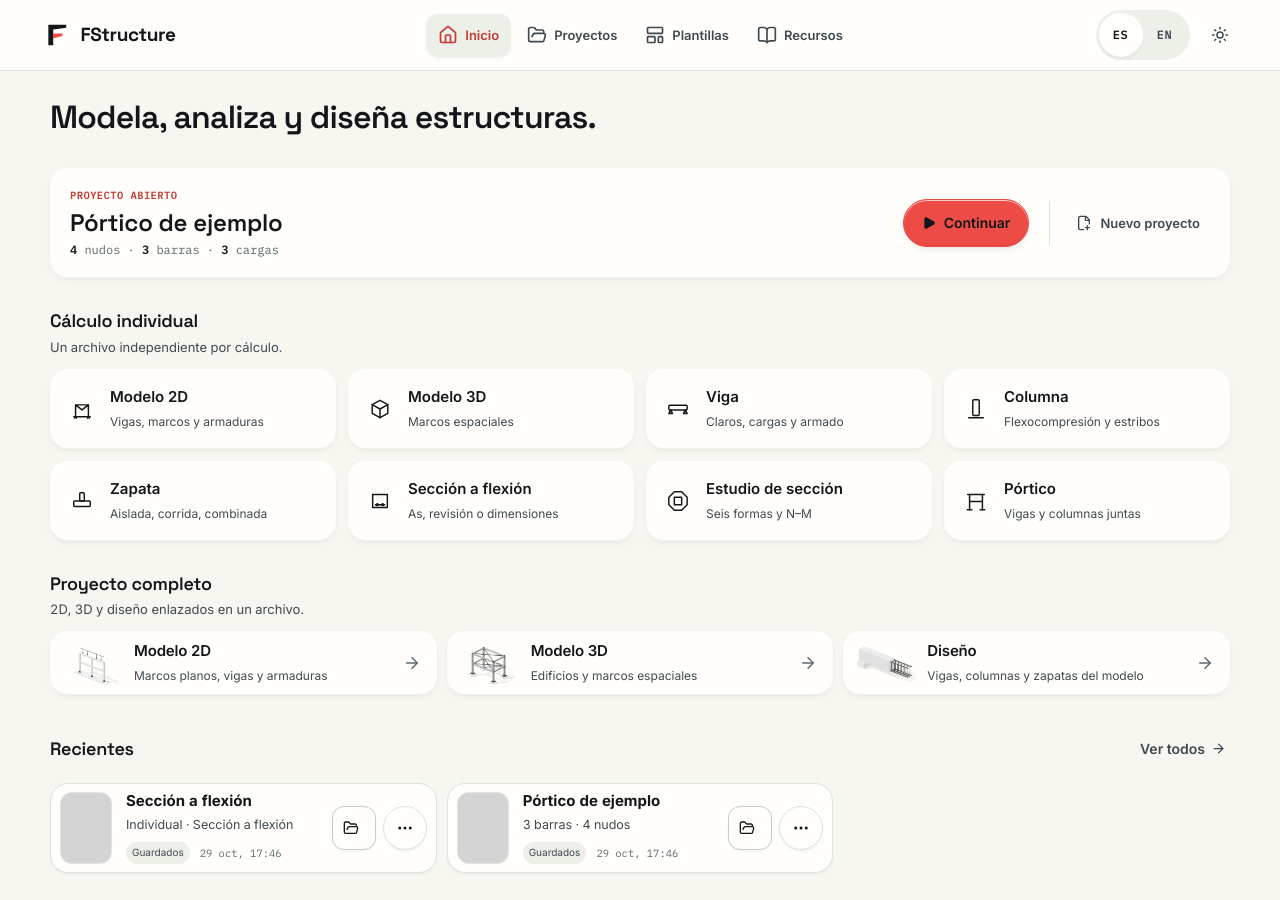
Scenario: HomePage: por separado o proyecto completo › cada pantalla individual crea su propio archivo y abre sólo su modo
The image size is (1280, 900).
Click the button "Modelo 3D Marcos espaciales" at (447, 397), box [348, 369, 634, 449]
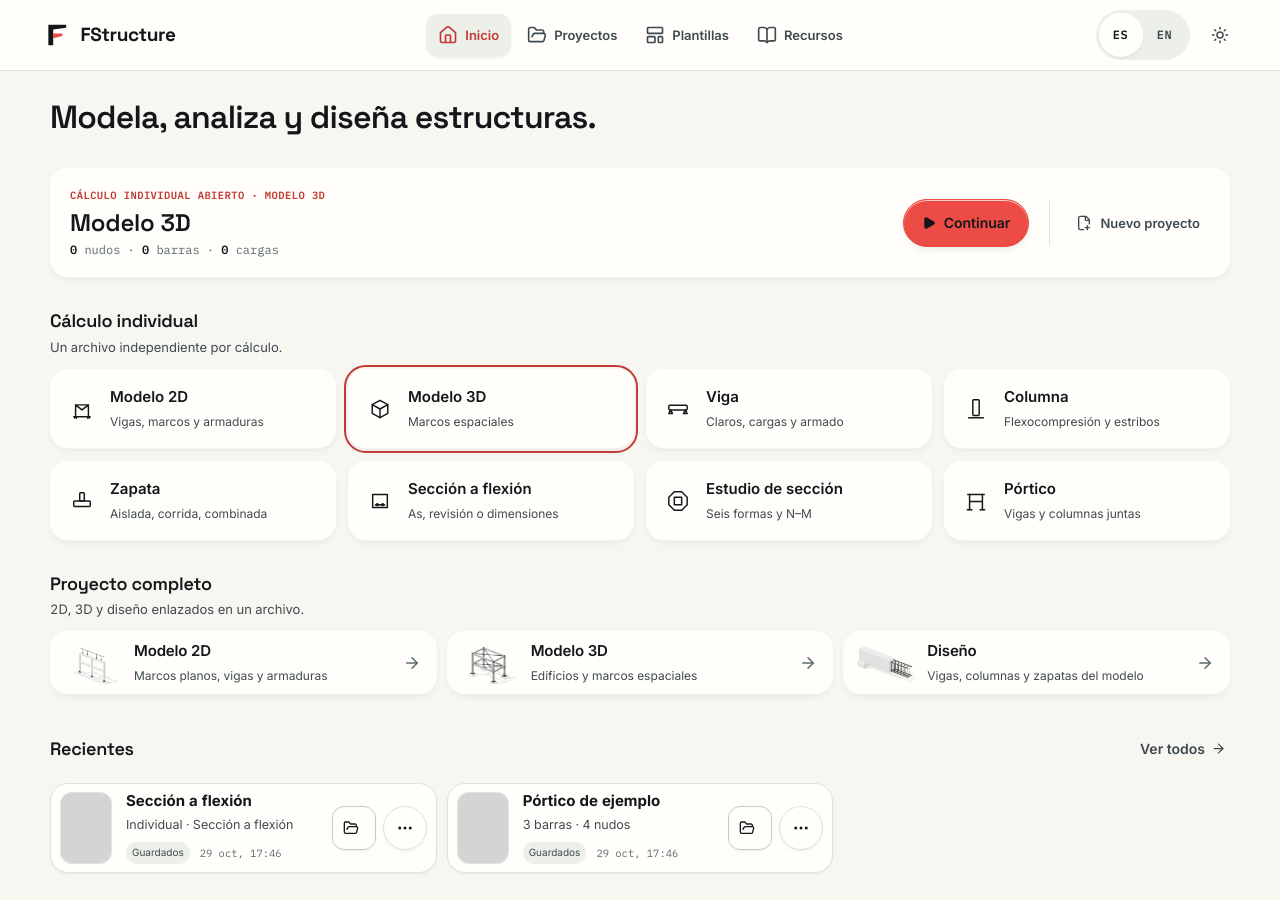
Now the text "Cálculo individual abierto · Modelo 3D" is shown, box [70, 188, 325, 202]
Click the button "Zapata Aislada, corrida, combinada" at (135, 489), box [50, 461, 336, 541]
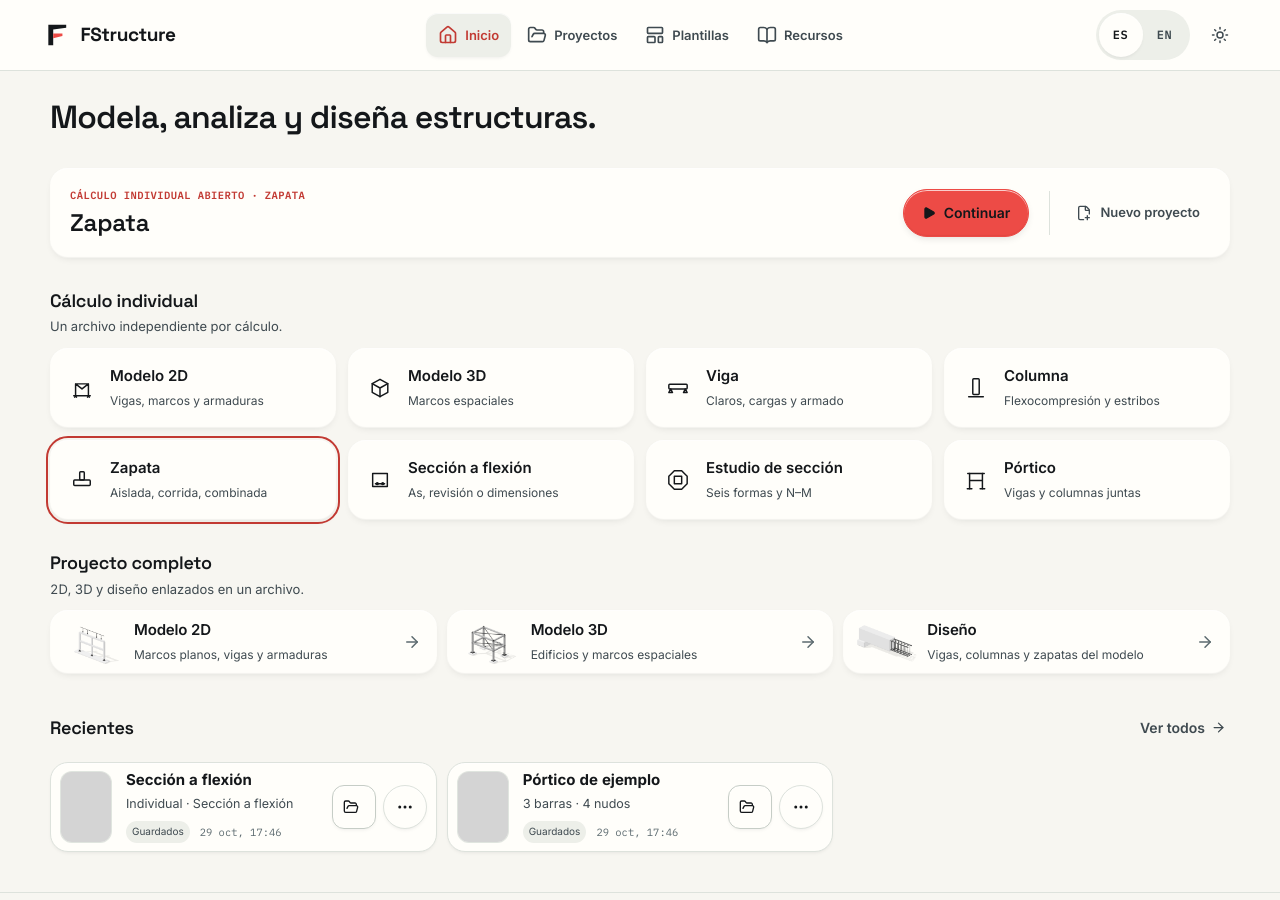
Now the text "Cálculo individual abierto · Zapata" is shown, box [70, 188, 305, 202]
Con un individual abierto, los modos del proyecto empiezan un proyecto nuevo.
Click the button "Modelo 3D Edificios y marcos espaciales" at (569, 630), box [447, 610, 833, 674]
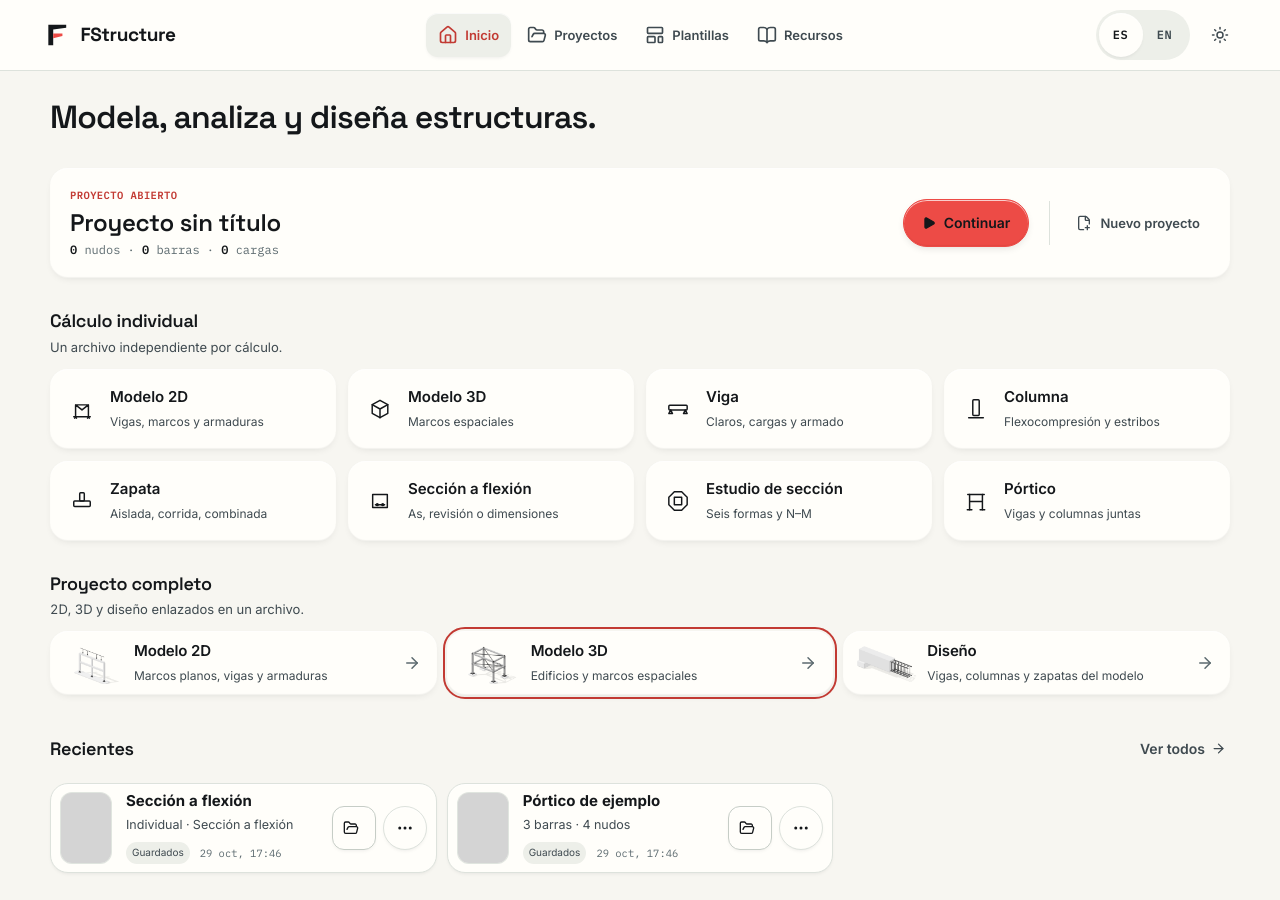
Now the text "Proyecto abierto" is shown, box [70, 188, 178, 202]
